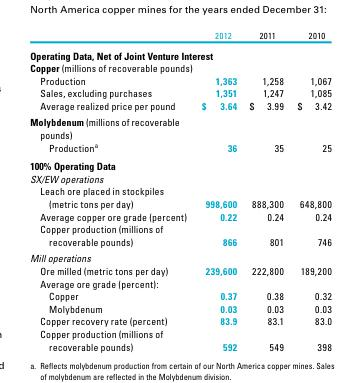table: (29, 28, 330, 351)
table column: (29, 28, 193, 351), (193, 28, 242, 351), (242, 28, 289, 351), (289, 28, 330, 351)
table column header: (29, 28, 330, 44)
table projected row header: (29, 113, 330, 140), (29, 44, 330, 61), (29, 156, 330, 171), (29, 249, 330, 263), (29, 171, 330, 184), (29, 276, 330, 289), (29, 61, 330, 73)
table row: (29, 113, 330, 140), (29, 222, 330, 249), (29, 184, 330, 209), (29, 327, 330, 351), (29, 44, 330, 61), (29, 28, 330, 44), (29, 140, 330, 156), (29, 98, 330, 113), (29, 156, 330, 171), (29, 249, 330, 263), (29, 73, 330, 86), (29, 171, 330, 184), (29, 209, 330, 222), (29, 263, 330, 276), (29, 276, 330, 289), (29, 301, 330, 314), (29, 314, 330, 327), (29, 61, 330, 73), (29, 86, 330, 98), (29, 289, 330, 301)
